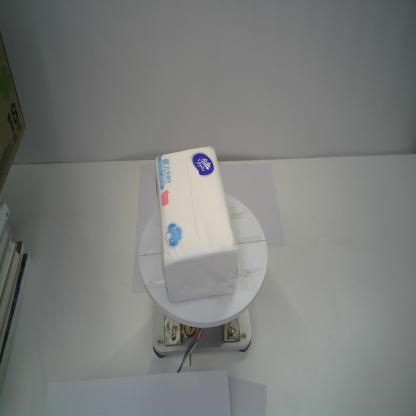Tissue: (154, 146, 240, 302)
